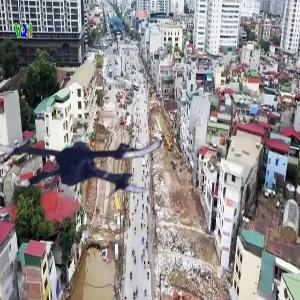drone: (2, 68, 165, 231)
